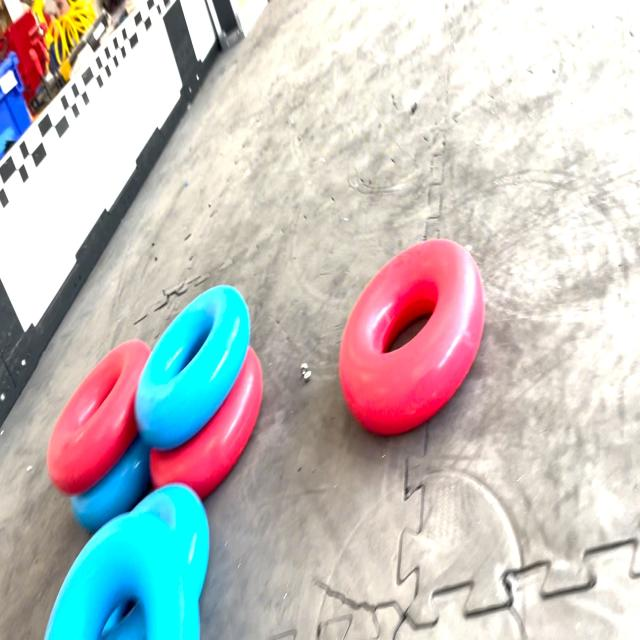Blue-Ring: (135, 284, 250, 449), (45, 511, 185, 640), (134, 484, 209, 603), (71, 436, 150, 531)
Red-Ring: (339, 240, 485, 436), (150, 347, 262, 498), (48, 340, 150, 496)
